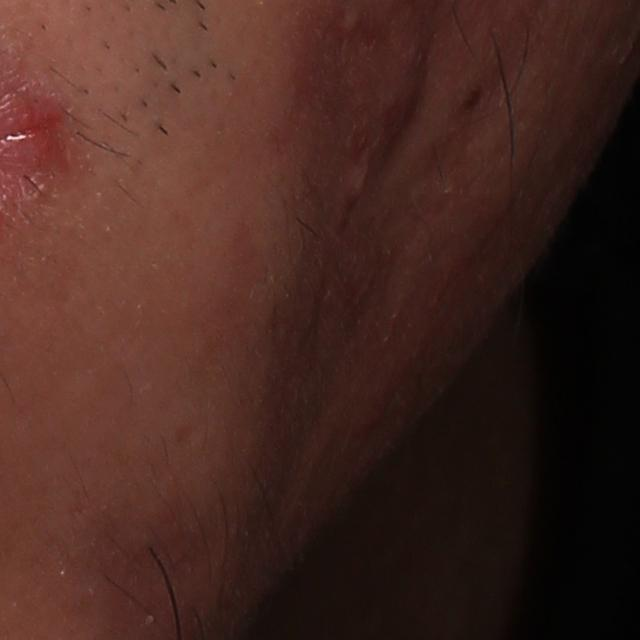nodule: (331, 7, 440, 216)
papule: (11, 80, 83, 189)
